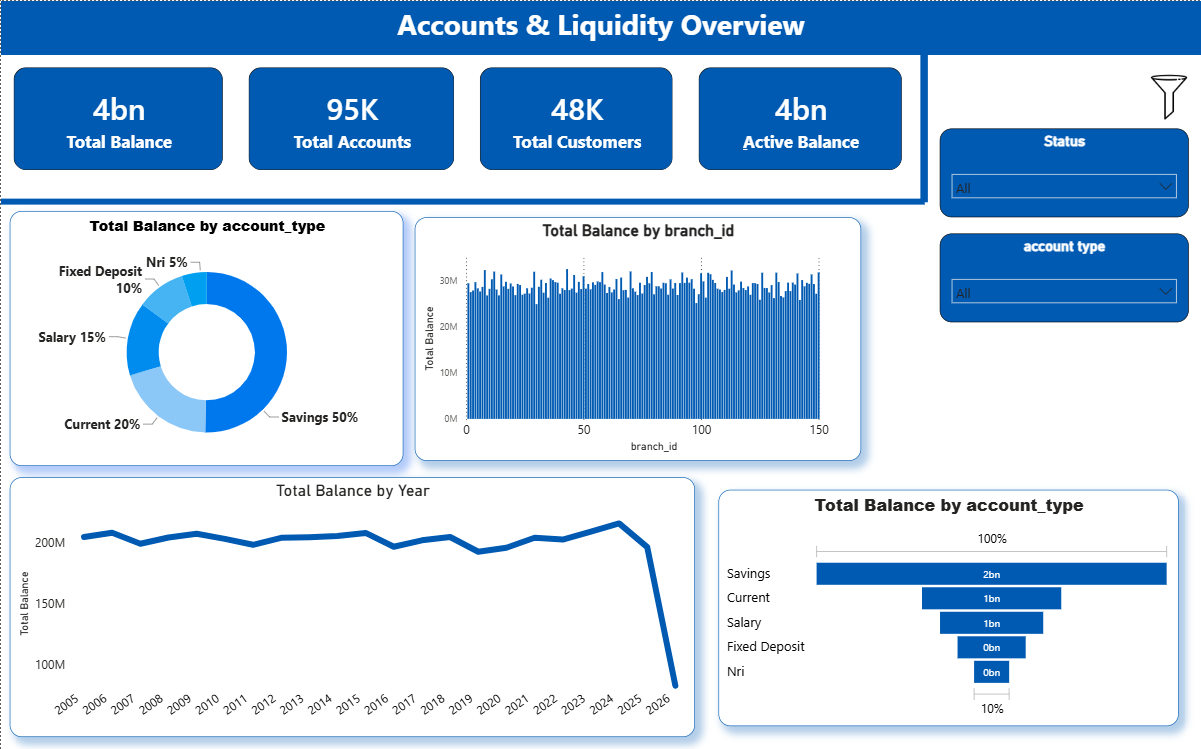

What the dashboard file says about the page in this screenshot:
{"tool":"powerbi","page":{"name":"Page 1","canvas":[1600,1000],"ordinal":0},"visuals":[{"type":"cardVisual","fields":{"Data":["Measure.Total Balance"]},"box":[0,71.7,313.3,171.7],"z":0},{"type":"cardVisual","fields":{"Data":["Measure.Total Accounts"]},"box":[313.3,71.7,308.3,171.7],"z":1000},{"type":"cardVisual","fields":{"Data":["Measure.Total Coustomers"]},"box":[621.7,71.7,291.7,171.7],"z":2000},{"type":"cardVisual","fields":{"Data":["Measure.ِActive Balance"]},"box":[913.3,71.7,305,171.7],"z":3000},{"type":"textbox","box":[0,0,1600,71.7],"z":4000},{"type":"shape","box":[0,181.7,1231.7,171.7],"z":6000},{"type":"shape","box":[1025,71.7,411.7,196.7],"z":7000},{"type":"slicer","title":"Status","fields":{"Values":["accounts_12.status"]},"box":[1251.7,170,331.7,118.3],"z":8000},{"type":"donutChart","fields":{"Category":["accounts_12.account_type"],"Y":["Measure.Total Balance"]},"box":[11.7,280,525,340],"z":9000},{"type":"lineChart","fields":{"Category":["Dim_Date.Date.Variation.Date Hierarchy.Year","Dim_Date.Date.Variation.Date Hierarchy.Quarter","Dim_Date.Date.Variation.Date Hierarchy.Month","Dim_Date.Date.Variation.Date Hierarchy.Day"],"Y":["Measure.Total Balance"]},"box":[11.7,635,913.3,346.7],"z":10000},{"type":"clusteredColumnChart","fields":{"Category":["accounts_12.branch_id"],"Y":["Measure.Total Balance"]},"box":[551.7,288.3,595,325],"z":11000},{"type":"funnel","fields":{"Category":["accounts_12.account_type"],"Y":["Measure.Total Balance"]},"box":[956.7,651.7,613.3,315],"z":12000},{"type":"slicer","title":"account type","fields":{"Values":["accounts_12.account_type"]},"box":[1251.7,310,331.7,118.3],"z":13000},{"type":"image","box":[1521.7,78.3,78.3,91.7],"z":14000}]}

Visuals, with their boxes in screenshot pixels (x1, y1, x2, y2), scaled from the page's 1600x1000 canvas onto the 1201x749 screenshot:
cardVisual - Measure.Total Balance: 0 54 235 182
cardVisual - Measure.Total Accounts: 235 54 467 182
cardVisual - Measure.Total Coustomers: 467 54 686 182
cardVisual - Measure.ِActive Balance: 686 54 914 182
textbox: 0 0 1200 54
shape: 0 136 925 265
shape: 769 54 1078 201
"Status" slicer: 940 127 1189 216
donutChart - accounts_12.account_type x Measure.Total Balance: 9 210 403 464
lineChart - Dim_Date.Date.Variation.Date Hierarchy.Year x Dim_Date.Date.Variation.Date Hierarchy.Quarter: 9 476 694 735
clusteredColumnChart - accounts_12.branch_id x Measure.Total Balance: 414 216 861 459
funnel - accounts_12.account_type x Measure.Total Balance: 718 488 1178 724
"account type" slicer: 940 232 1189 321
image: 1142 59 1200 127
